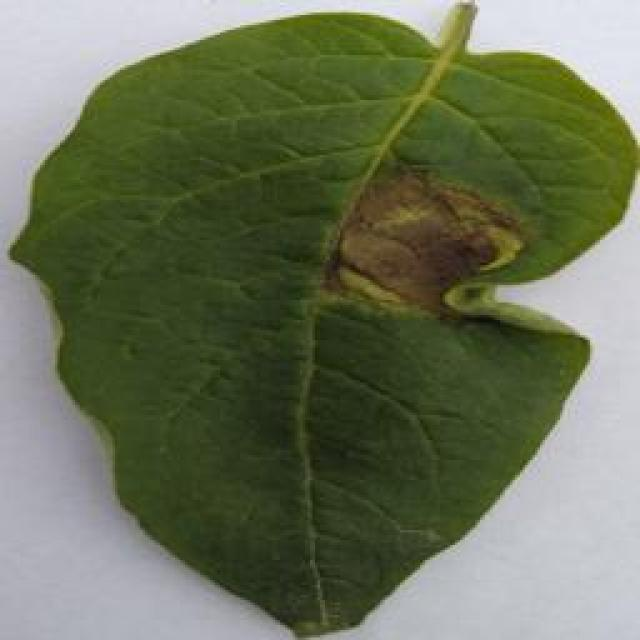Potato_Late_Blight: (11, 6, 626, 634)
